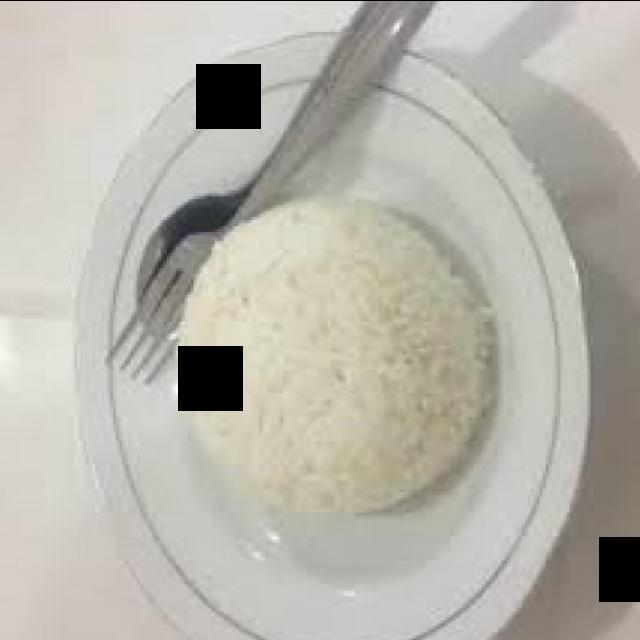rice: (174, 195, 498, 517)
